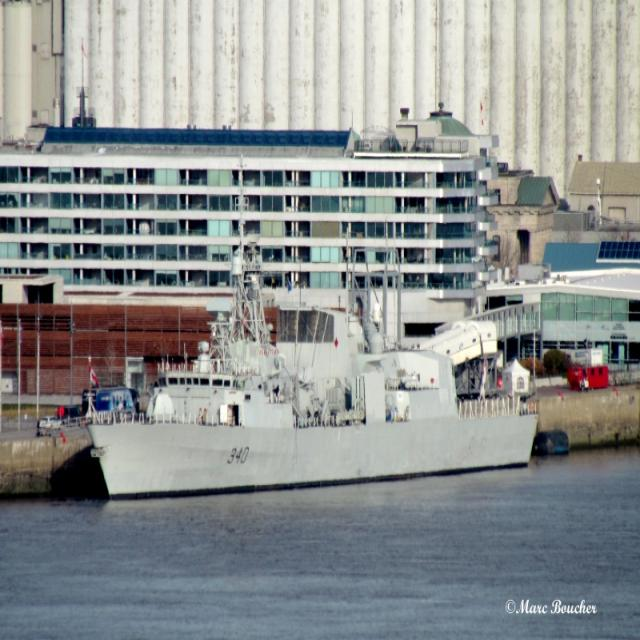Fragata: (82, 216, 543, 507)
